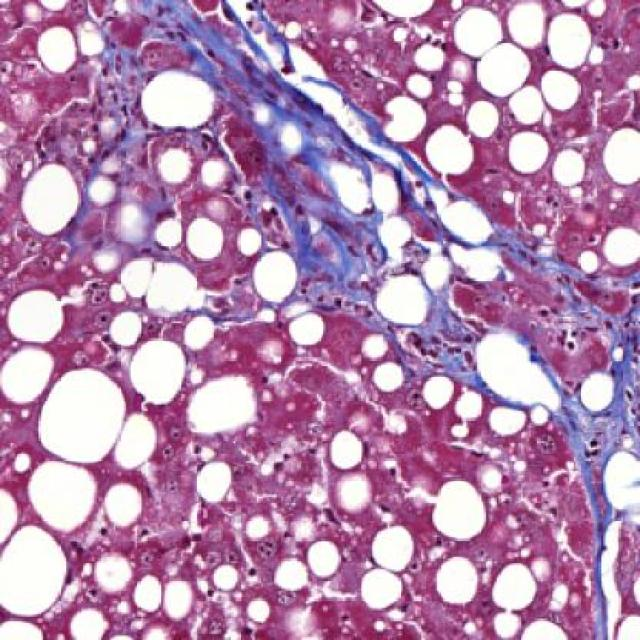fibrosis: (369, 264, 640, 436), (228, 85, 429, 243)
